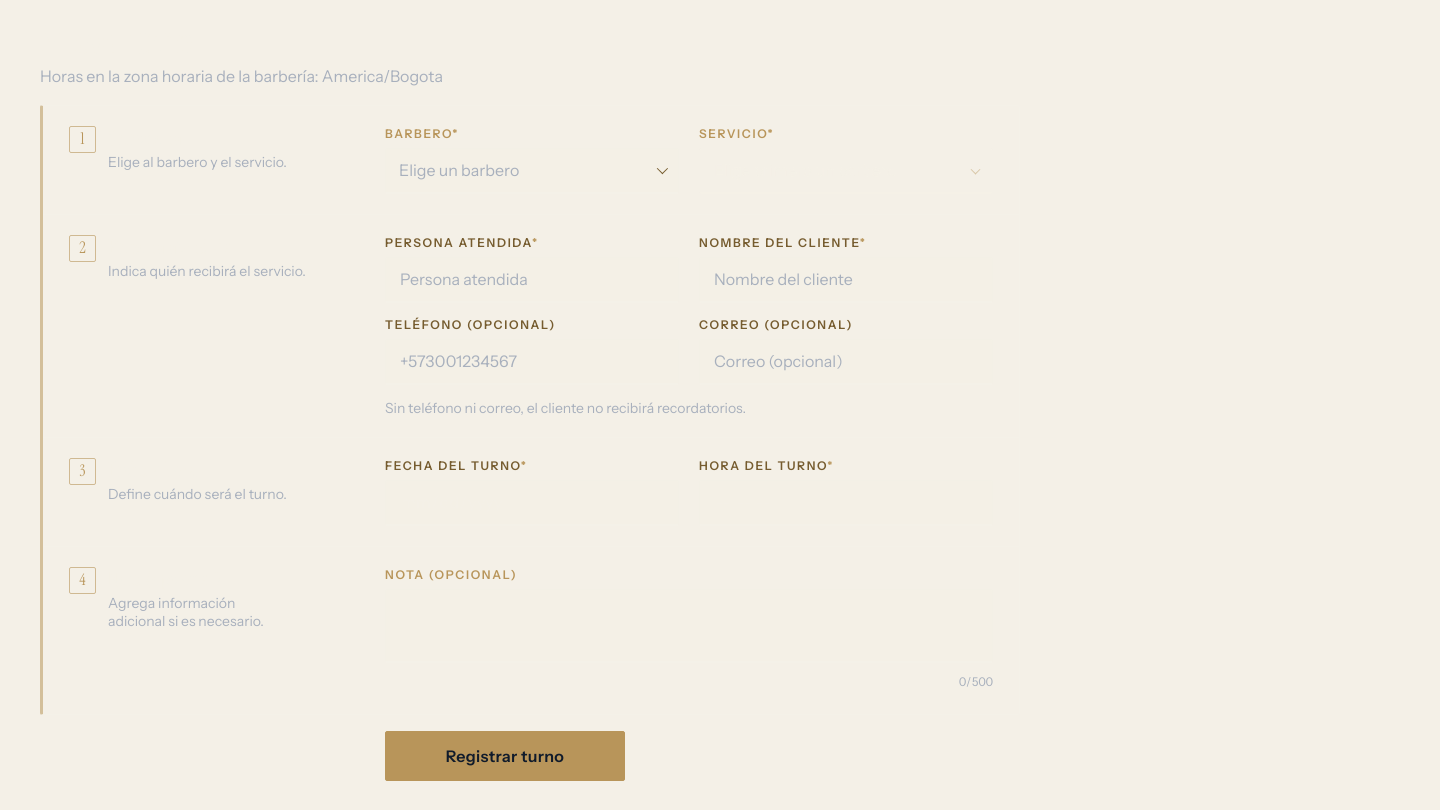
Test case: NewAppointmentPage › shows a live "Resumen" with only the fields filled so far (Fase 4b, adopción NAVA)
Click the button with id "new-appointment-barber" at (459, 170), box [385,148,679,194]
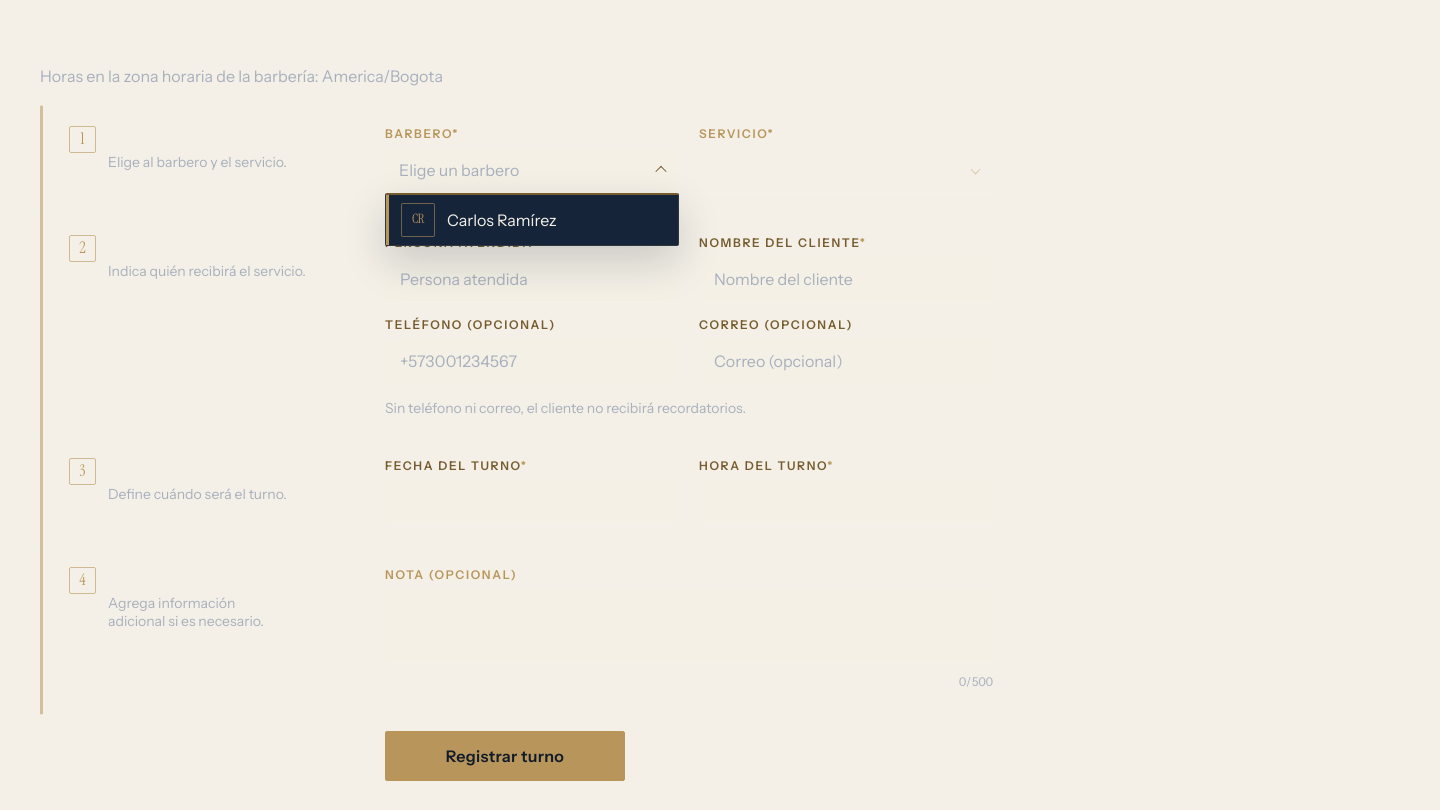
Click the option "CR Carlos Ramírez" at (532, 220), box [386,195,678,245]
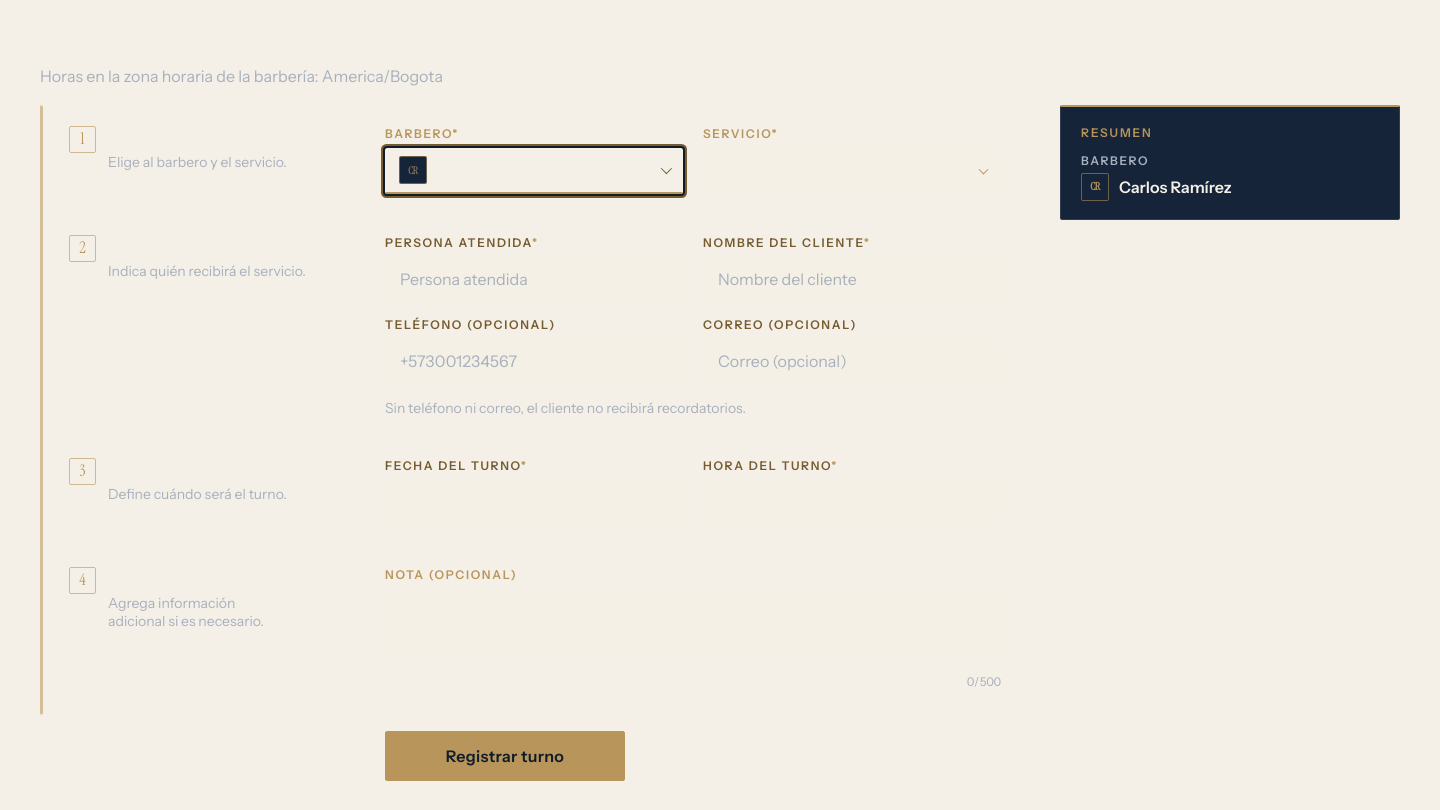
expect the element with class "new-appointment-page__resumen" does not show "Servicio": met
expect the element with class "new-appointment-page__resumen" shows "Carlos Ramírez": met, box [1119,177,1232,197]
